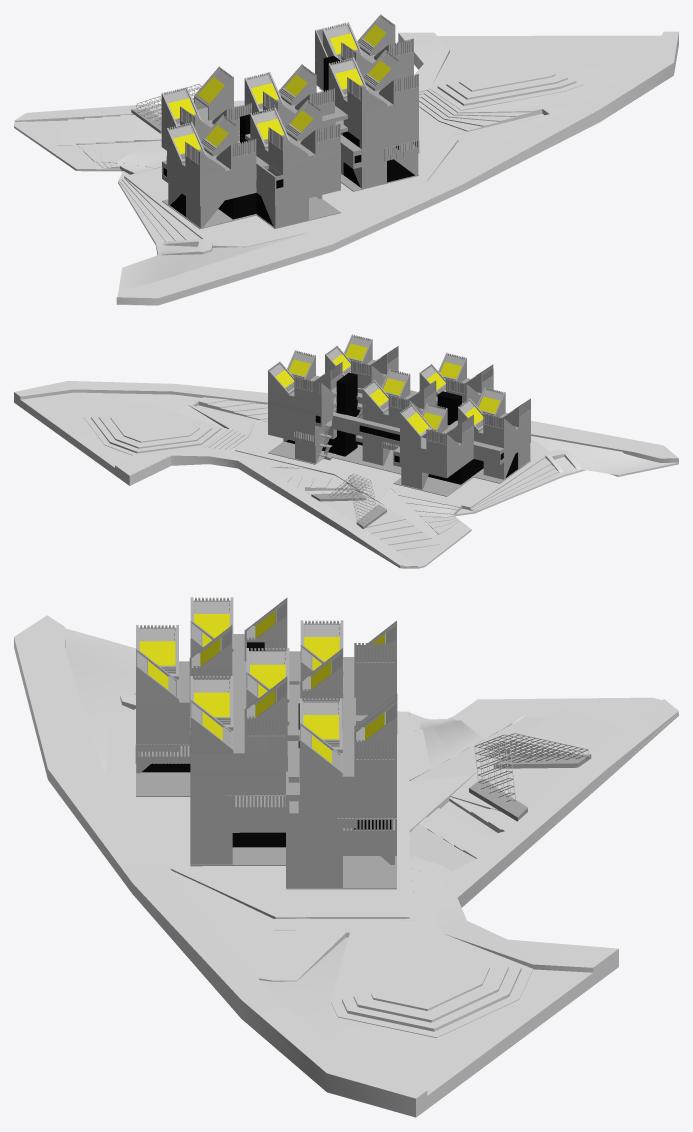
The model's file is edificio_2.glb.
The picture shows the model from 3 angles, top to bottom: view 1: azimuth 30°, elevation 25°; view 2: azimuth 150°, elevation 25°; view 3: azimuth 270°, elevation 25°; orthographic projection. The views are drawn at different scales.
Visible parts, largest first — view 1: base, piso_0_5, piso_0_4, piso_0_6, piso_0_1, piso_0_3, piso_0_2, lugar_de_duelo, escultura; view 2: base, piso_0_1, piso_0_4, piso_0_5, piso_0_6, piso_0_3, piso_0_2, escultura, lugar_de_duelo; view 3: base, piso_0_5, piso_0_6, piso_0_4, piso_0_1, piso_0_3, piso_0_2, escultura, lugar_de_duelo.
Part boxes in pixels (left/top/right/bottom): base: left=14, top=31, right=678, bottom=305; piso_0_5: left=244, top=59, right=418, bottom=166; piso_0_4: left=161, top=72, right=418, bottom=180; piso_0_6: left=315, top=14, right=418, bottom=116; piso_0_1: left=161, top=56, right=418, bottom=228; piso_0_3: left=161, top=87, right=418, bottom=193; piso_0_2: left=161, top=135, right=419, bottom=206; lugar_de_duelo: left=194, top=66, right=233, bottom=120; escultura: left=131, top=84, right=243, bottom=133; base: left=14, top=381, right=678, bottom=568; piso_0_1: left=268, top=372, right=530, bottom=496; piso_0_4: left=268, top=387, right=530, bottom=457; piso_0_5: left=268, top=352, right=493, bottom=421; piso_0_6: left=268, top=334, right=398, bottom=406; piso_0_3: left=268, top=409, right=530, bottom=467; piso_0_2: left=268, top=424, right=530, bottom=478; escultura: left=311, top=473, right=386, bottom=529; lugar_de_duelo: left=400, top=404, right=432, bottom=447; base: left=14, top=615, right=678, bottom=1117; piso_0_5: left=136, top=625, right=396, bottom=800; piso_0_6: left=190, top=676, right=397, bottom=782; piso_0_4: left=136, top=597, right=396, bottom=818; piso_0_1: left=136, top=642, right=396, bottom=889; piso_0_3: left=136, top=638, right=396, bottom=837; piso_0_2: left=135, top=744, right=396, bottom=855; escultura: left=469, top=733, right=591, bottom=821; lugar_de_duelo: left=354, top=643, right=396, bottom=698.
Bounding box in the file's own units: 247 × 41.94 × 141.
Materials: 3 (1 with a texture image).
